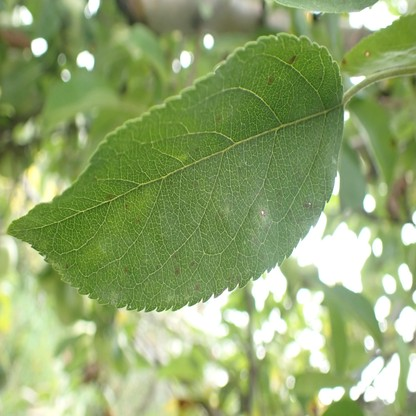powdery_mildew: (6, 33, 343, 314)
